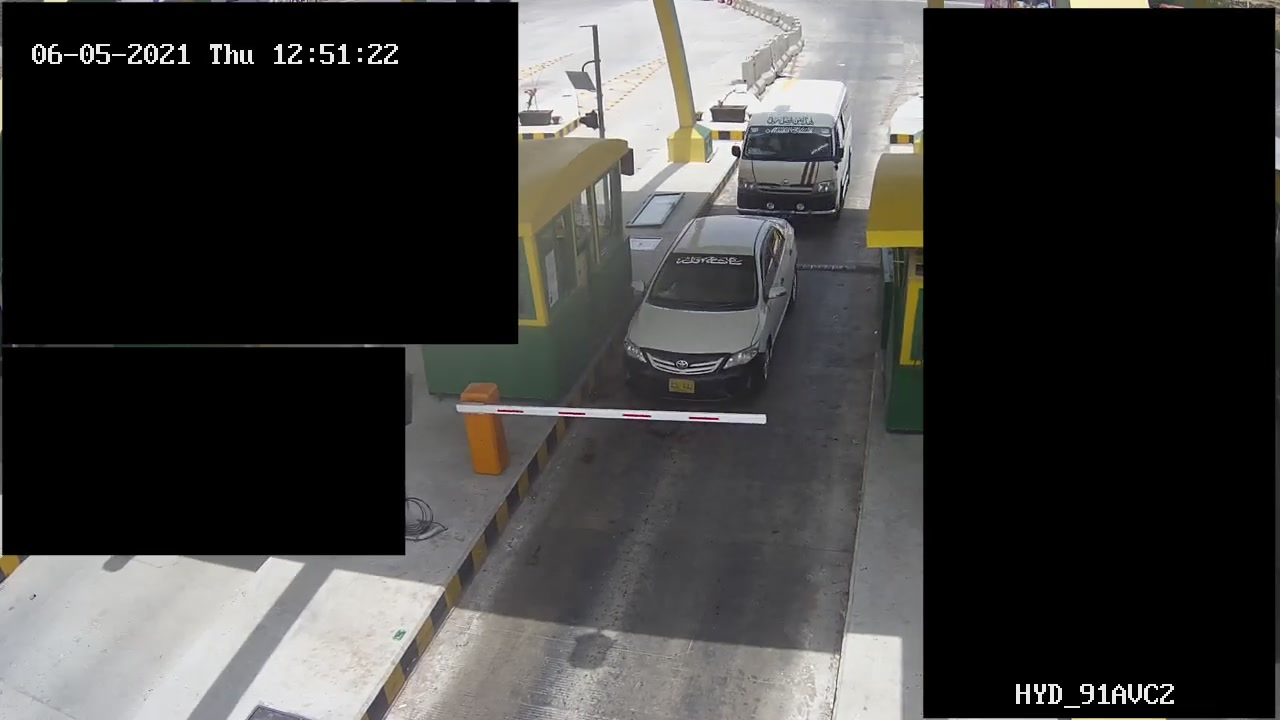F1: (620, 204, 801, 405)
F2: (733, 69, 851, 222)
